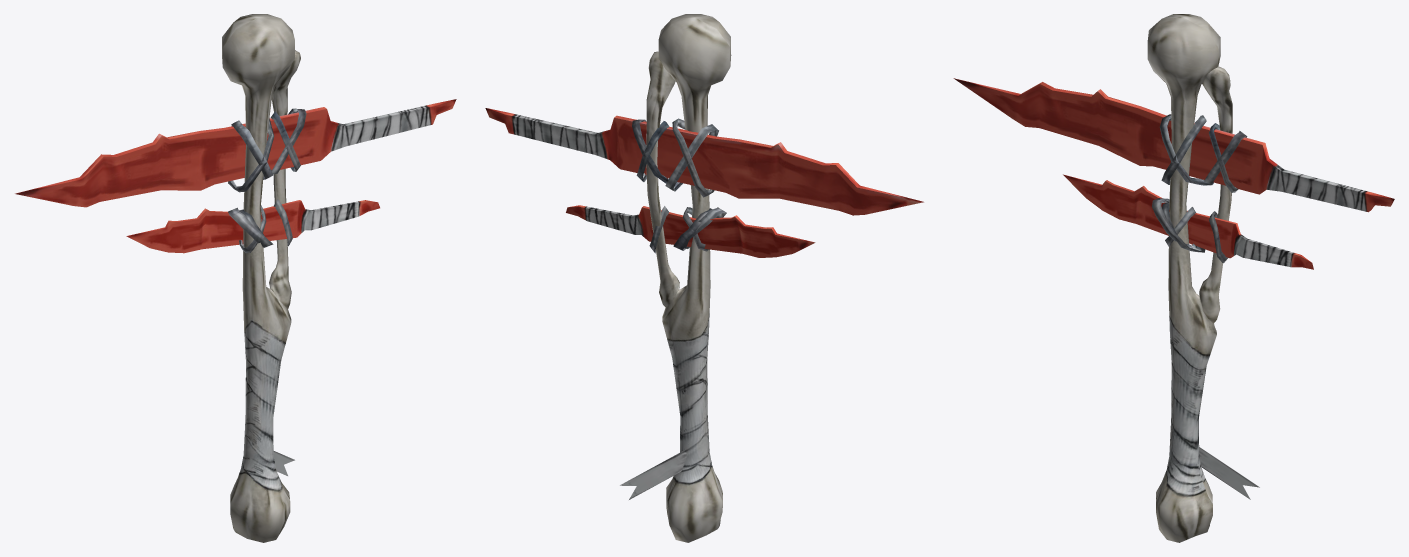
File: Weapon_Boss.fbx
The picture shows the model from 3 angles, left to right: view 1: azimuth 30°, elevation 25°; view 2: azimuth 150°, elevation 25°; view 3: azimuth 330°, elevation 25°; orthographic projection.
Visible parts, largest first — view 1: weapon_group1_weapon_pCylinder4_weapon_polySurface1, weapon_group1_weapon_pCube31_weapon_polySurface1, weapon_group1_weapon_pCube32_weapon_polySurface1, skeleton1_group1_skeleton1_pTorus10_skeleton1_polySurface1_p, skeleton1_group1_skeleton1_pTorus13_skeleton1_polySurface1_p, skeleton1_group1_skeleton1_pTorus16_skeleton1_polySurface1_p, skeleton1_group1_skeleton1_pTorus14_skeleton1_polySurface1_p; view 2: weapon_group1_weapon_pCylinder4_weapon_polySurface1, weapon_group1_weapon_pCube31_weapon_polySurface1, weapon_group1_weapon_pCube32_weapon_polySurface1, weapon_group1_weapon_pCube33_weapon_polySurface1, skeleton1_group1_skeleton1_pTorus10_skeleton1_polySurface1_p, skeleton1_group1_skeleton1_pTorus13_skeleton1_polySurface1_p, skeleton1_group1_skeleton1_pTorus14_skeleton1_polySurface1_p, skeleton1_group1_skeleton1_pTorus16_skeleton1_polySurface1_p; view 3: weapon_group1_weapon_pCylinder4_weapon_polySurface1, weapon_group1_weapon_pCube31_weapon_polySurface1, weapon_group1_weapon_pCube32_weapon_polySurface1, weapon_group1_weapon_pCube33_weapon_polySurface1, skeleton1_group1_skeleton1_pTorus13_skeleton1_polySurface1_p, skeleton1_group1_skeleton1_pTorus10_skeleton1_polySurface1_p, skeleton1_group1_skeleton1_pTorus14_skeleton1_polySurface1_p, skeleton1_group1_skeleton1_pTorus16_skeleton1_polySurface1_p.
Boxes of the visible parts, <box> form: weapon_group1_weapon_pCylinder4_weapon_polySurface1: <box>222,14,300,542</box>; weapon_group1_weapon_pCube31_weapon_polySurface1: <box>15,99,456,207</box>; weapon_group1_weapon_pCube32_weapon_polySurface1: <box>126,200,379,253</box>; skeleton1_group1_skeleton1_pTorus10_skeleton1_polySurface1_p: <box>231,120,273,179</box>; skeleton1_group1_skeleton1_pTorus13_skeleton1_polySurface1_p: <box>228,118,274,192</box>; skeleton1_group1_skeleton1_pTorus16_skeleton1_polySurface1_p: <box>271,108,306,174</box>; skeleton1_group1_skeleton1_pTorus14_skeleton1_polySurface1_p: <box>228,207,273,247</box>; weapon_group1_weapon_pCylinder4_weapon_polySurface1: <box>646,14,731,542</box>; weapon_group1_weapon_pCube31_weapon_polySurface1: <box>485,108,923,215</box>; weapon_group1_weapon_pCube32_weapon_polySurface1: <box>566,205,815,257</box>; weapon_group1_weapon_pCube33_weapon_polySurface1: <box>620,449,686,499</box>; skeleton1_group1_skeleton1_pTorus10_skeleton1_polySurface1_p: <box>665,124,718,191</box>; skeleton1_group1_skeleton1_pTorus13_skeleton1_polySurface1_p: <box>672,118,714,197</box>; skeleton1_group1_skeleton1_pTorus14_skeleton1_polySurface1_p: <box>673,207,726,250</box>; skeleton1_group1_skeleton1_pTorus16_skeleton1_polySurface1_p: <box>632,119,668,183</box>; weapon_group1_weapon_pCylinder4_weapon_polySurface1: <box>1147,14,1232,542</box>; weapon_group1_weapon_pCube31_weapon_polySurface1: <box>953,78,1394,212</box>; weapon_group1_weapon_pCube32_weapon_polySurface1: <box>1063,174,1313,269</box>; weapon_group1_weapon_pCube33_weapon_polySurface1: <box>1199,447,1259,499</box>; skeleton1_group1_skeleton1_pTorus13_skeleton1_polySurface1_p: <box>1161,115,1206,184</box>; skeleton1_group1_skeleton1_pTorus10_skeleton1_polySurface1_p: <box>1159,114,1210,185</box>; skeleton1_group1_skeleton1_pTorus14_skeleton1_polySurface1_p: <box>1152,198,1205,252</box>; skeleton1_group1_skeleton1_pTorus16_skeleton1_polySurface1_p: <box>1204,131,1247,184</box>.
Size of the model in its own units: 233 by 263 by 34.51.
